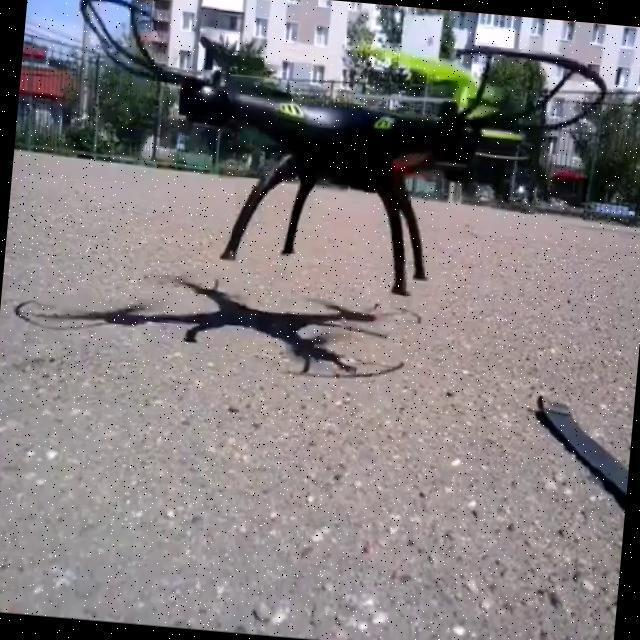Drons: (46, 0, 613, 318)
